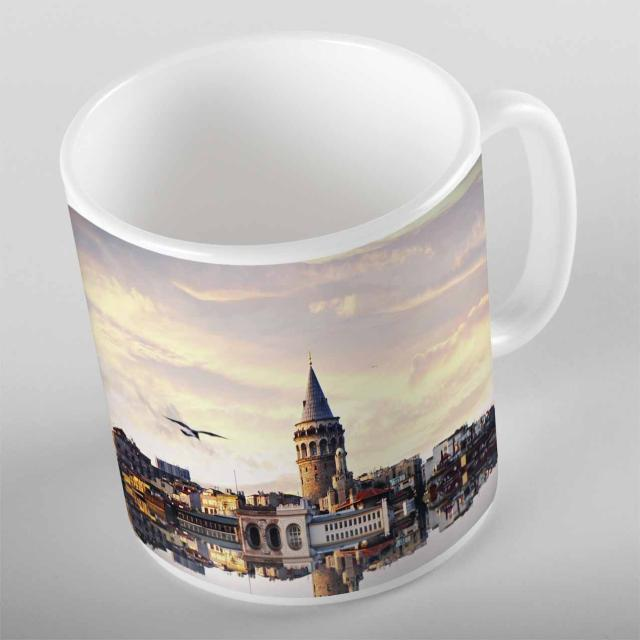Coffee Mug: (58, 29, 578, 612)
